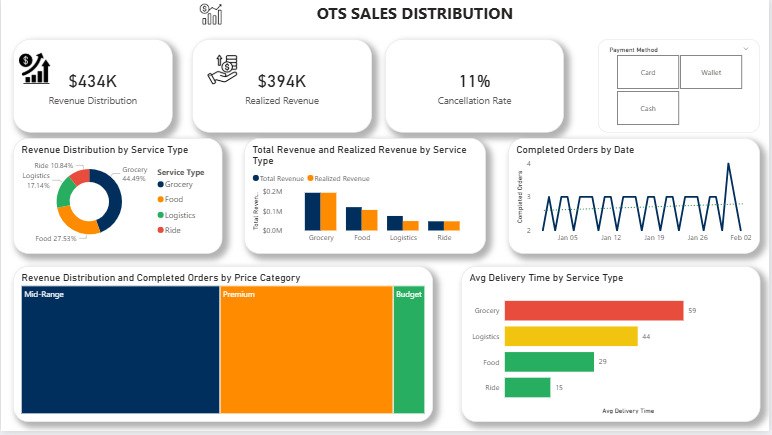

What the dashboard file says about the page in this screenshot:
{"tool":"powerbi","page":{"name":"Page 2","canvas":[1280,720],"ordinal":0},"visuals":[{"type":"textbox","box":[186.6,0,1006.5,66.1],"z":0},{"type":"card","title":"Revenue D","fields":{"Values":["OTS_sales.Total Revenue"]},"box":[20.6,66.1,266,155.8],"z":1000},{"type":"card","fields":{"Values":["OTS_sales.Cancellation Rate"]},"box":[640.7,66.1,298.3,155.8],"z":2000},{"type":"card","fields":{"Values":["Sum(OTS_sales.Realized_Revenue)"]},"box":[318.9,66.1,299.8,155.8],"z":3000},{"type":"slicer","fields":{"Values":["OTS_sales.Payment_Method"]},"box":[994.8,66.1,270.4,155.8],"z":4000},{"type":"donutChart","title":"Revenue Distribution by Service Type","fields":{"Category":["OTS_sales.Service_Type"],"Y":["OTS_sales.Total Revenue"]},"box":[20.2,231.8,349.4,193.2],"z":5000},{"type":"lineChart","fields":{"Y":["OTS_sales.Completed Orders"],"Category":["Calendar.Date"]},"box":[844.9,231.8,419.9,193.2],"z":6000},{"type":"clusteredColumnChart","fields":{"Category":["OTS_sales.Service_Type"],"Y":["OTS_sales.Total Revenue","Sum(OTS_sales.Realized_Revenue)"]},"box":[405.7,231.8,403.1,193.2],"z":7000},{"type":"clusteredBarChart","title":"Avg Delivery Time by Service Type","fields":{"Category":["OTS_sales.Service_Type"],"Y":["OTS_sales.Avg Delivery Time"]},"box":[766,445.1,498.9,260.4],"z":8000},{"type":"treemap","title":"Revenue Distribution and Completed Orders by Price Category","fields":{"Group":["OTS_sales.Price Category"],"Values":["OTS_sales.Total Revenue"]},"box":[20.2,445.1,700.5,260.4],"z":9000},{"type":"image","box":[288,5.9,122,36.7],"z":10000},{"type":"image","box":[30.4,86.7,52,57.8],"z":11000},{"type":"image","box":[344.1,89.6,50.6,54.9],"z":12000}]}

Visuals, with their boxes in screenshot pixels (x1, y1, x2, y2), scaled from the page's 1280x720 canvas onto the 772x435 screenshot:
textbox: 113, 0, 720, 40
"Revenue D" card: 12, 40, 173, 134
card - OTS_sales.Cancellation Rate: 386, 40, 566, 134
card - Sum(OTS_sales.Realized_Revenue): 192, 40, 373, 134
slicer - OTS_sales.Payment_Method: 600, 40, 763, 134
"Revenue Distribution by Service Type" donutChart: 12, 140, 223, 257
lineChart - OTS_sales.Completed Orders x Calendar.Date: 510, 140, 763, 257
clusteredColumnChart - OTS_sales.Service_Type x OTS_sales.Total Revenue: 245, 140, 488, 257
"Avg Delivery Time by Service Type" clusteredBarChart: 462, 269, 763, 426
"Revenue Distribution and Completed Orders by Price Category" treemap: 12, 269, 435, 426
image: 174, 4, 247, 26
image: 18, 52, 50, 87
image: 208, 54, 238, 87
